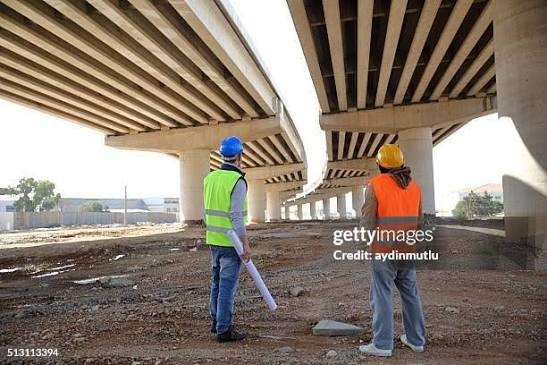hardhat: (373, 145, 404, 170), (215, 135, 250, 156)
person: (194, 131, 287, 353), (351, 142, 441, 356)
safety_vest: (360, 176, 430, 260), (203, 167, 254, 255)
